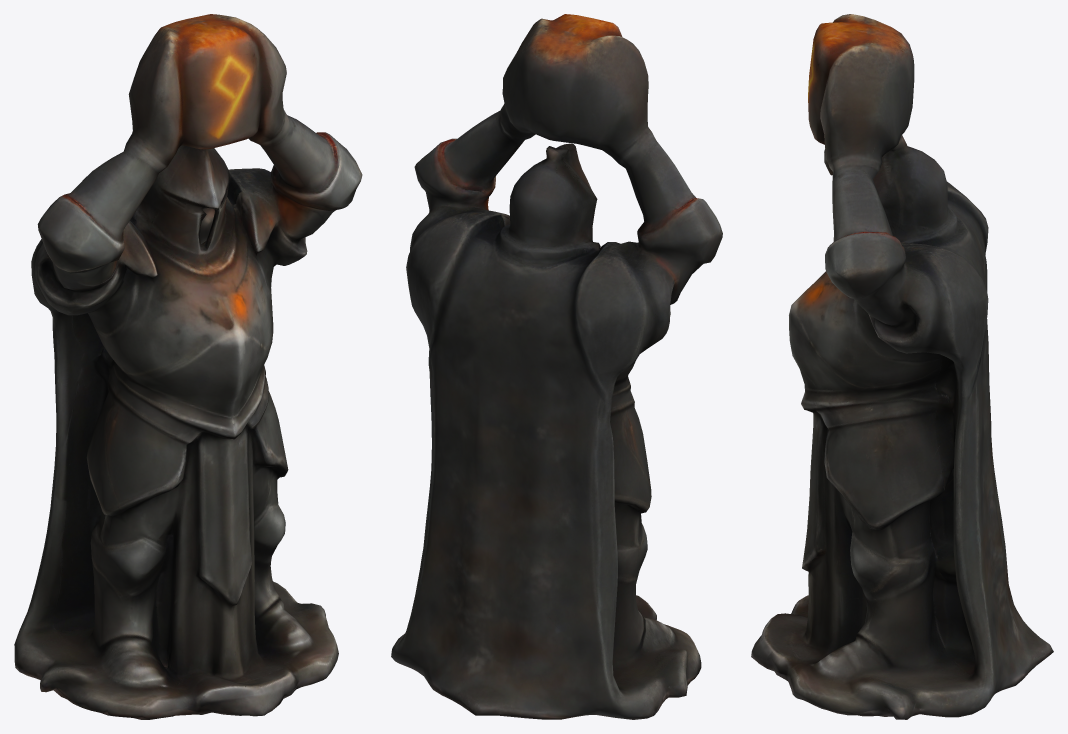
File: guardian_statue_warding.glb
3 renders of one model, left to right at view 1: azimuth 30°, elevation 25°; view 2: azimuth 150°, elevation 25°; view 3: azimuth 270°, elevation 25°, orthographic. The views are drawn at different scales.
Bounding box in the file's own units: 0.9898 × 2 × 0.8753.
Materials: 1 (1 with a texture image).
